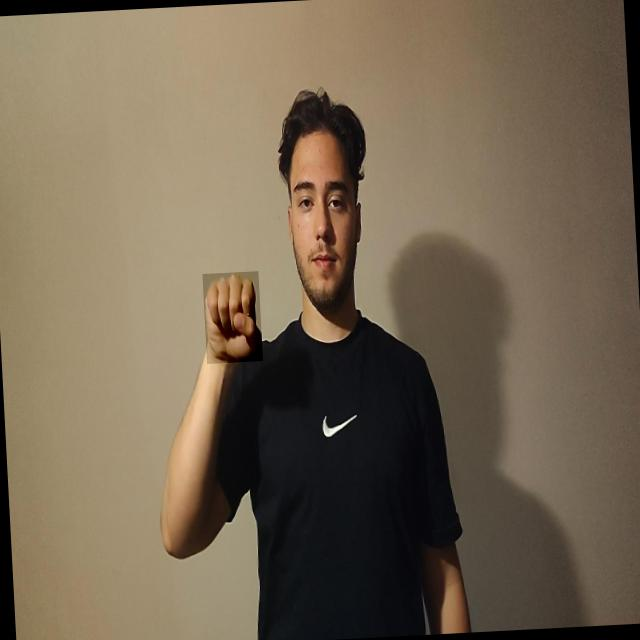yes: (202, 271, 264, 364)
